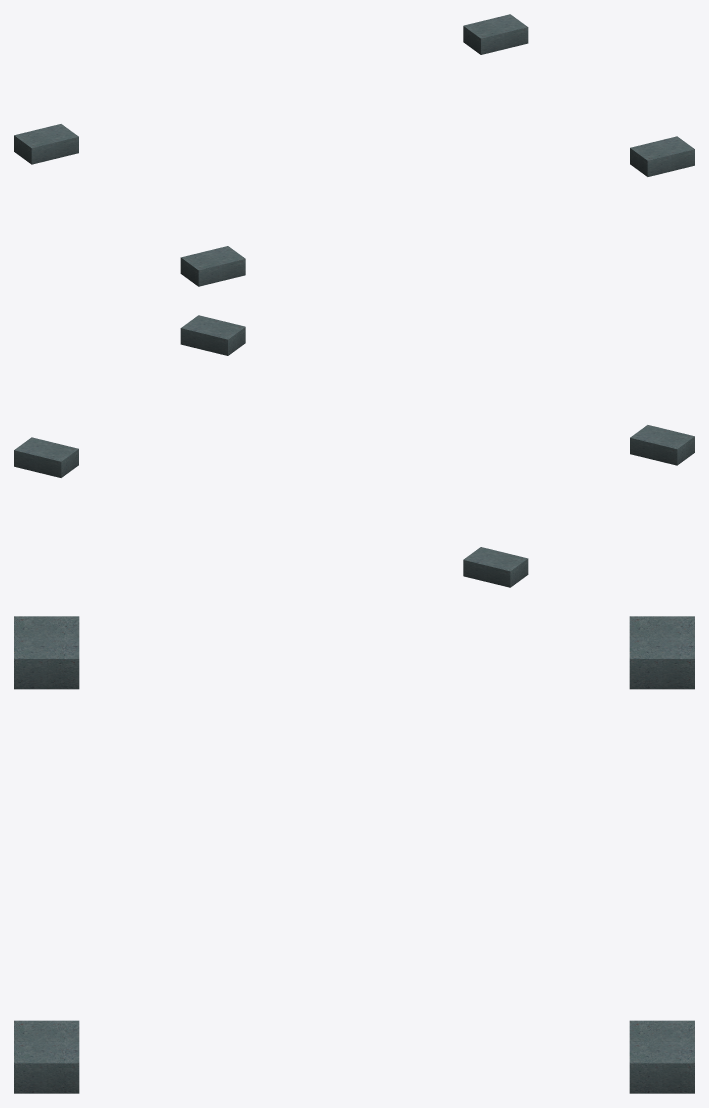
Rendered from KOUI00.glb.
3 views of the same model, one above another, from view 1: azimuth 30°, elevation 25°; view 2: azimuth 150°, elevation 25°; view 3: azimuth 270°, elevation 25° (orthographic). The views are drawn at different scales.
Parts seen in each view (by area): view 1: FRAME_ROOT; view 2: FRAME_ROOT; view 3: FRAME_ROOT.
Part boxes in pixels (bbox=[...]): FRAME_ROOT: bbox=[14, 14, 694, 286]; FRAME_ROOT: bbox=[14, 315, 694, 587]; FRAME_ROOT: bbox=[14, 616, 694, 1093].
Bounding box in the file's own units: 16.17 × 0.5116 × 10.41.
1 material, 1 textured.
